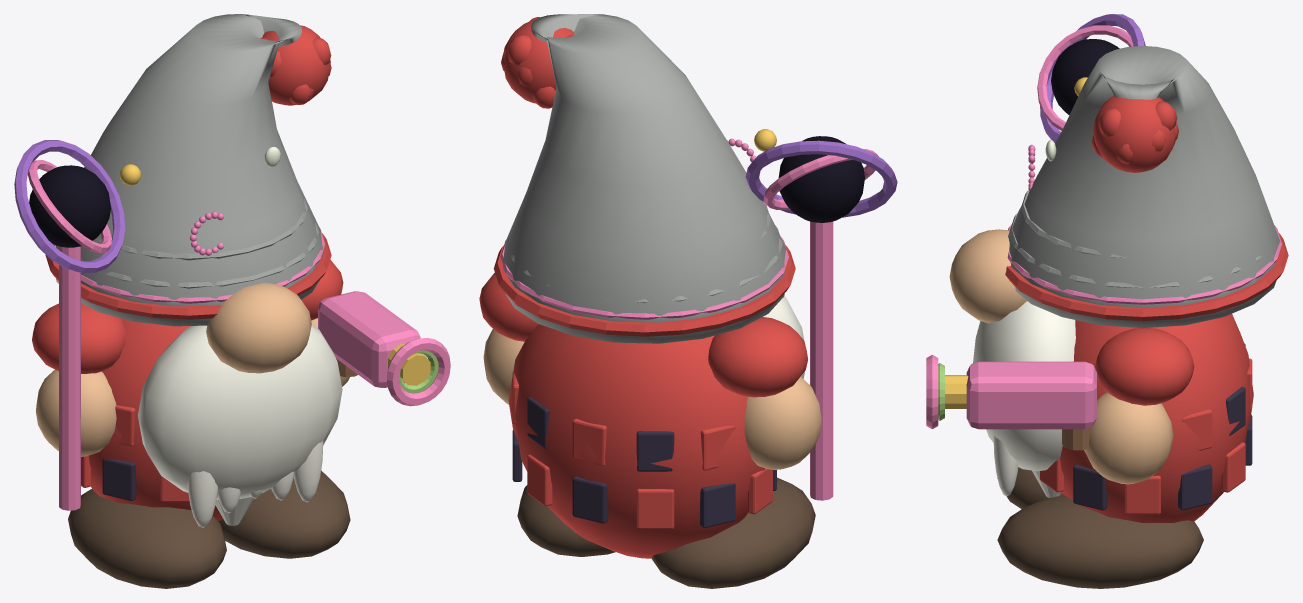
File: gnome-fusion-gravity-stun.glb
3 views of the same model, side by side, from view 1: azimuth 30°, elevation 25°; view 2: azimuth 150°, elevation 25°; view 3: azimuth 270°, elevation 25° (orthographic). The views are drawn at different scales.
Parts seen in each view (by area): view 1: gnome-fusion-gravity-stun; view 2: gnome-fusion-gravity-stun; view 3: gnome-fusion-gravity-stun.
Part boxes in pixels (x1,y1,x2,y2): gnome-fusion-gravity-stun: (14,14,450,588); gnome-fusion-gravity-stun: (479,14,897,588); gnome-fusion-gravity-stun: (926,14,1288,588).
Bounding box in the file's own units: 1.11 × 1.46 × 0.9466.
